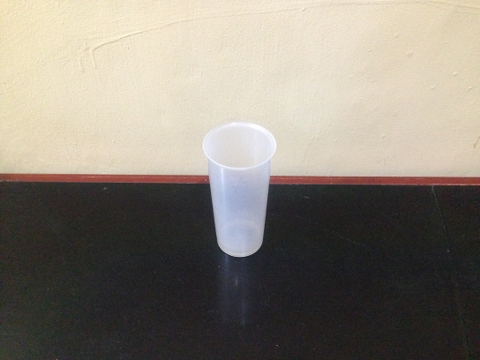tempat minum: (202, 120, 276, 259)
